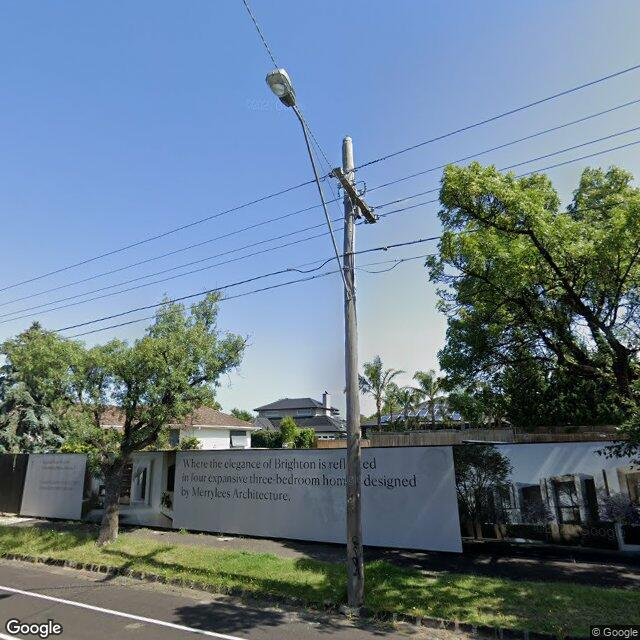crossarm: (332, 168, 376, 224)
streetlight: (266, 68, 350, 302)
timber-pole: (342, 137, 364, 608)
